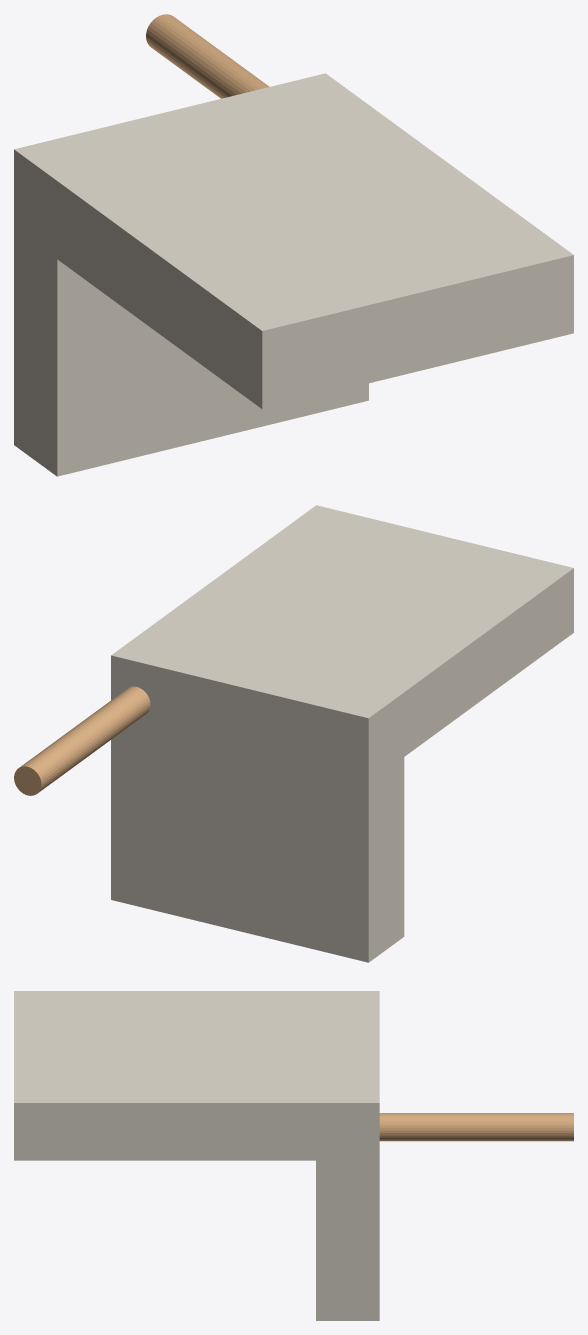
File: single-chairs.glb
3 renders of one model, top to bottom at view 1: azimuth 30°, elevation 25°; view 2: azimuth 150°, elevation 25°; view 3: azimuth 270°, elevation 25°, orthographic. The views are drawn at different scales.
Parts seen in each view (by area): view 1: Back, Seat, Leg; view 2: Seat, Back, Leg; view 3: Back, Seat, Leg.
Boxes of the visible parts, <box> form: Back: <box>34,88,573,409</box>; Seat: <box>14,73,368,476</box>; Leg: <box>146,14,269,98</box>; Seat: <box>111,629,404,962</box>; Back: <box>132,505,573,756</box>; Leg: <box>14,686,150,795</box>; Back: <box>14,991,349,1160</box>; Seat: <box>316,991,379,1320</box>; Leg: <box>379,1113,573,1141</box>.
Size of the model in its own units: 0.75 by 0.68 by 1.59.
